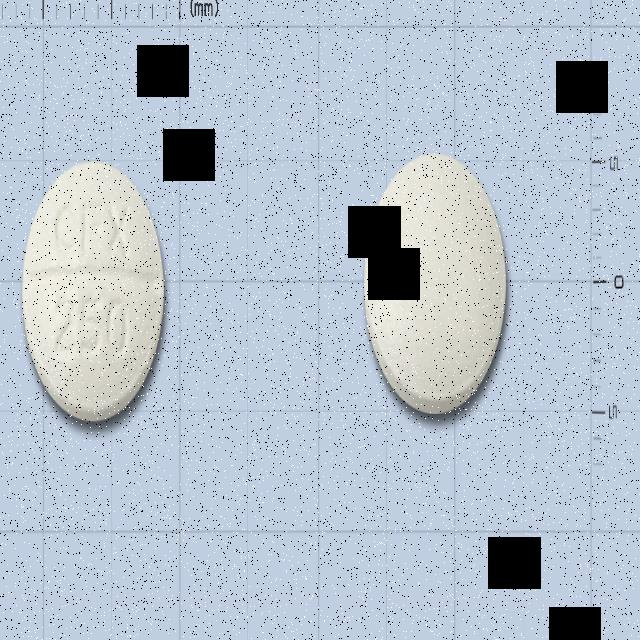Ciprofloxacin Tab- Pharma: (21, 151, 172, 432)
